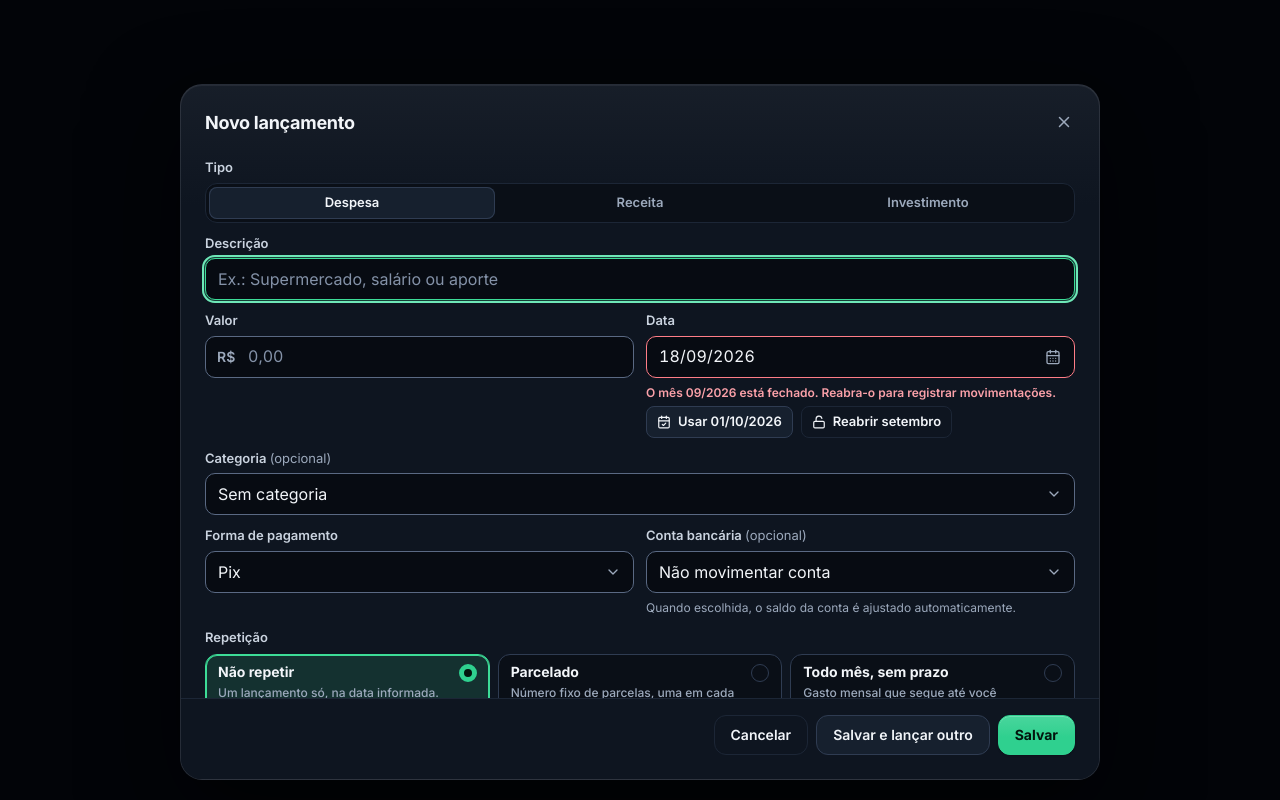
Test: R3-REC-2 · data em mês fechado › reabrir o mês mantém a data escolhida
This screenshot has width=1280, height=800.
Click the button "Reabrir setembro" at (876, 422), box [801,406,952,438]
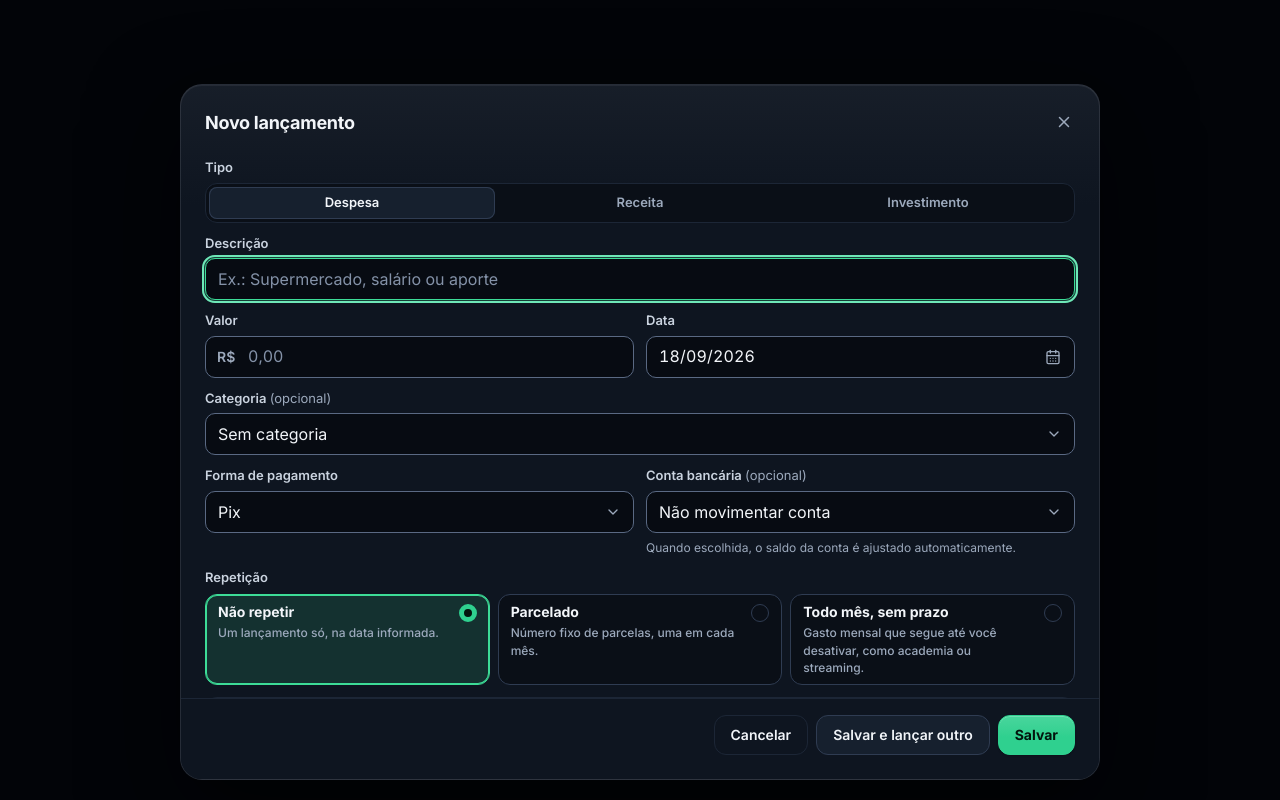
Expected: the text "O mês 09/2026 está fechado" is gone
